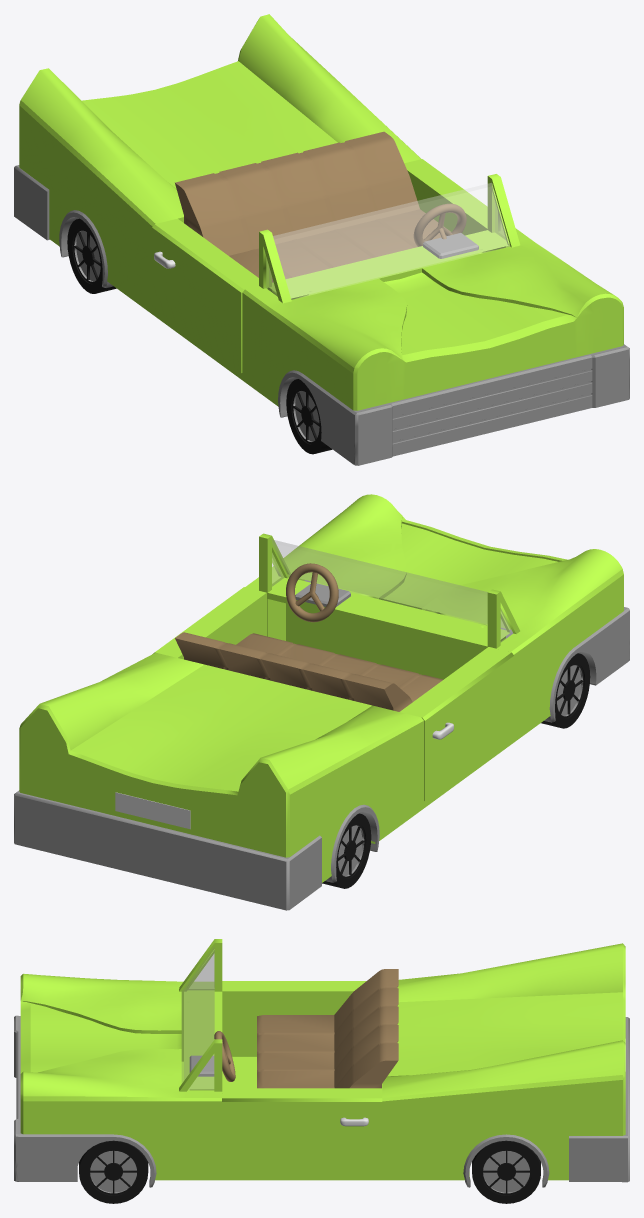
The model's file is Bil_02.fbx.
3 views of the same model, one above another, from view 1: azimuth 30°, elevation 25°; view 2: azimuth 150°, elevation 25°; view 3: azimuth 270°, elevation 25° (orthographic). The views are drawn at different scales.
Visible parts, largest first — view 1: bil, Sits, Bil bak, Höger dörr, Vänster dörr, Framhjul, Bakhjul, Bil fram, Ratt, Bakhjul ram; view 2: bil, Bil fram, Höger dörr, Sits, Vänster dörr, Bil bak, Bakhjul, Framhjul, Ratt, Bil registreringsskylt, Bakhjul ram; view 3: bil, Vänster dörr, Sits, Höger dörr, Bil bak, Framhjul, Bakhjul, Bil fram, Bakhjul ram, Ratt.
Part boxes in pixels (x1,y1,x2,y2): bil: (19, 14, 623, 410); Sits: (175, 131, 450, 282); Bil bak: (278, 344, 629, 465); Höger dörr: (152, 218, 258, 372); Vänster dörr: (404, 159, 501, 235); Framhjul: (286, 379, 332, 454); Bakhjul: (67, 218, 116, 293); Bil fram: (14, 165, 49, 240); Ratt: (413, 203, 466, 246); Bakhjul ram: (59, 210, 113, 287); bil: (19, 494, 623, 882); Bil fram: (14, 790, 321, 910); Höger dörr: (400, 647, 514, 800); Sits: (175, 632, 443, 711); Vänster dörr: (153, 587, 266, 659); Bil bak: (304, 580, 629, 722); Bakhjul: (322, 813, 371, 888); Framhjul: (541, 653, 590, 728); Ratt: (286, 563, 338, 622); Bil registreringsskylt: (115, 792, 190, 829); Bakhjul ram: (325, 804, 379, 882); bil: (20, 939, 625, 1180); Vänster dörr: (222, 1088, 382, 1173); Sits: (257, 969, 398, 1088); Höger dörr: (222, 981, 366, 1056); Bil bak: (14, 1015, 156, 1187); Framhjul: (79, 1140, 148, 1203); Bakhjul: (472, 1140, 540, 1203); Bil fram: (569, 1017, 629, 1182); Bakhjul ram: (463, 1134, 549, 1187); Ratt: (214, 1031, 235, 1081).
Size of the model in its own units: 118 by 67.3 by 243.
